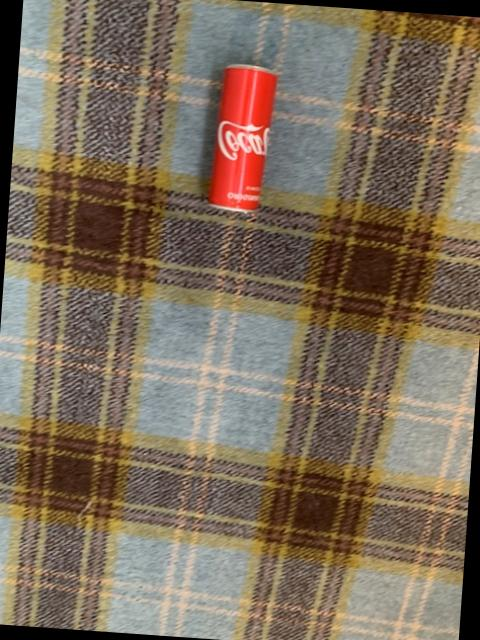metal: (209, 62, 277, 208)
